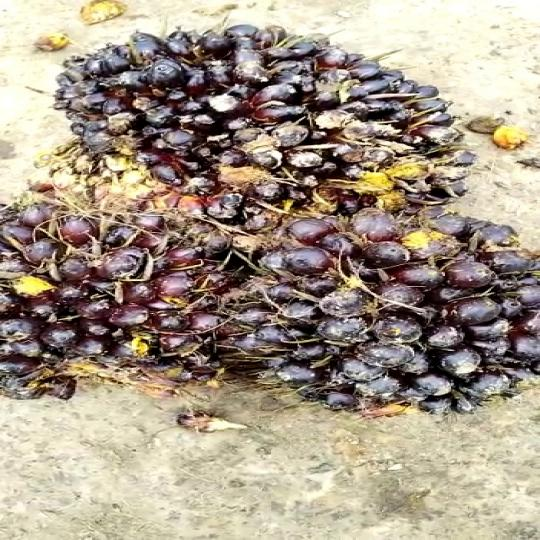mentah: (56, 29, 473, 223), (207, 197, 540, 412), (0, 189, 242, 412)
